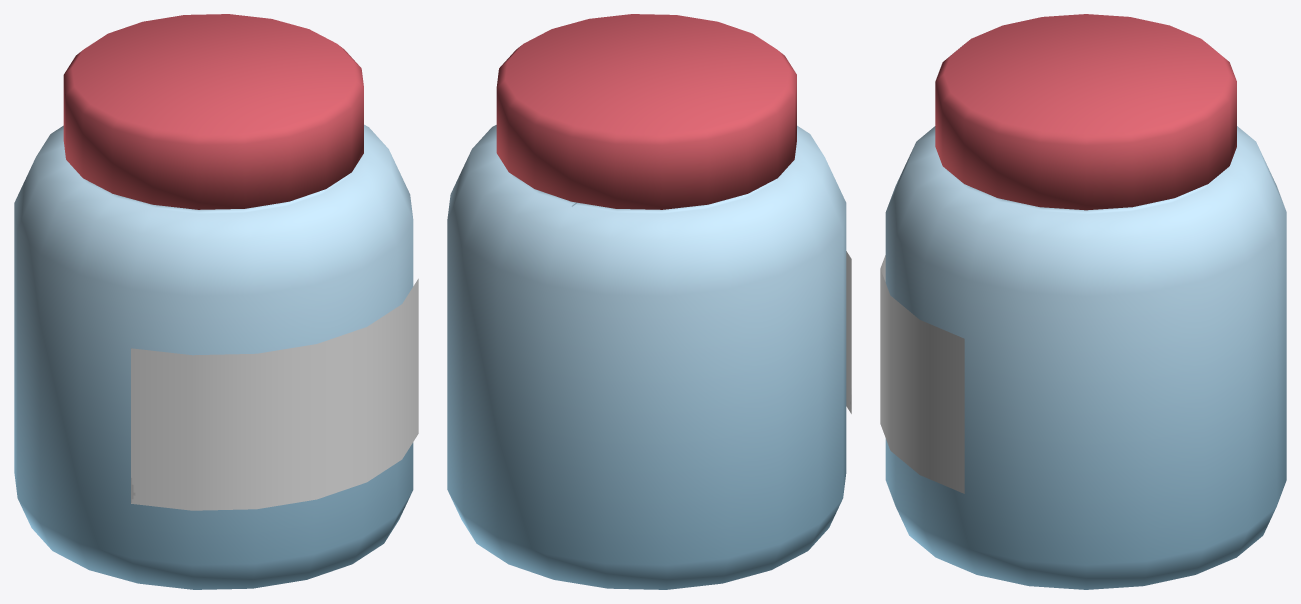
The model's file is Jar.fbx.
3 views of the same model, side by side, from view 1: azimuth 30°, elevation 25°; view 2: azimuth 150°, elevation 25°; view 3: azimuth 270°, elevation 25° (orthographic).
Parts seen in each view (by area): view 1: Jar; view 2: Jar; view 3: Jar.
Part boxes in pixels (box(x1,y1,x2,y2)): Jar: box(14, 14, 418, 589); Jar: box(447, 14, 851, 589); Jar: box(880, 14, 1286, 589).
Size of the model in its own units: 0.9282 by 0.9408 by 1.15.
Materials: 1 (1 with a texture image).
